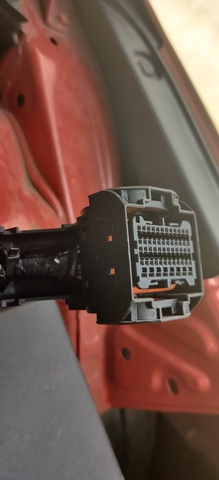connector: (84, 186, 204, 325)
